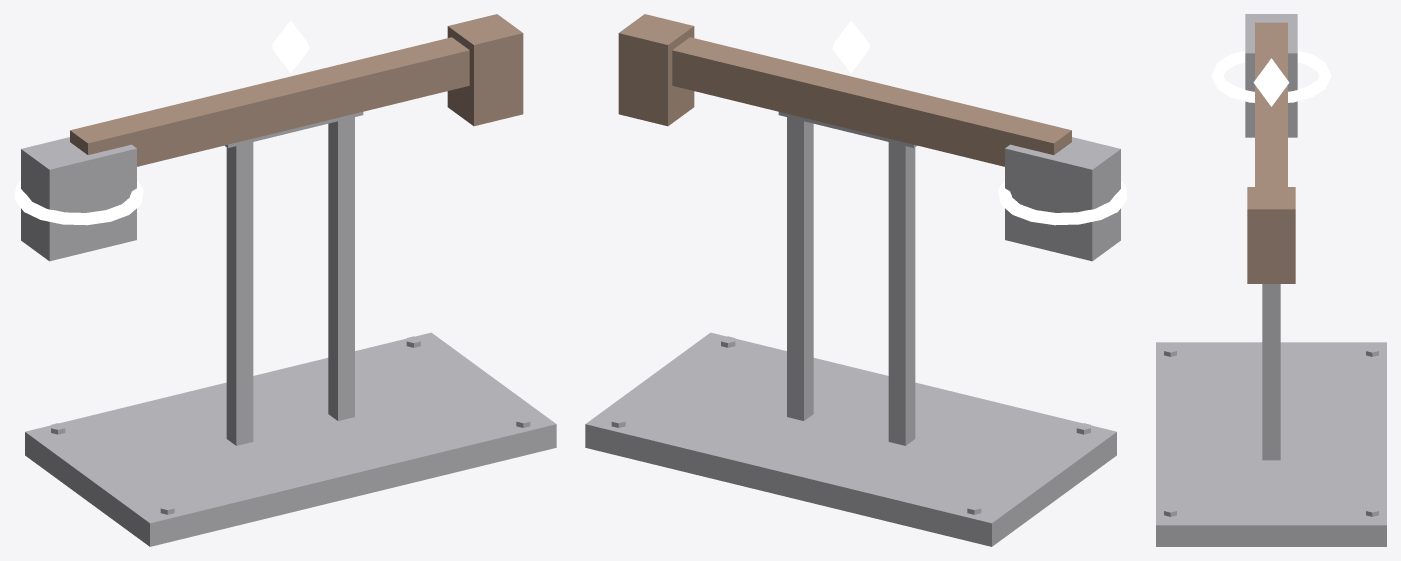
The model's file is pump_jack_legendary.glb.
3 renders of one model, left to right at view 1: azimuth 30°, elevation 25°; view 2: azimuth 150°, elevation 25°; view 3: azimuth 270°, elevation 25°, orthographic. The views are drawn at different scales.
Parts seen in each view (by area): view 1: pump_jack, beam; view 2: pump_jack, beam; view 3: pump_jack, beam.
Part boxes in pixels (x1,y1,x2,y2): pump_jack: [14, 14, 556, 546]; beam: [70, 37, 469, 166]; pump_jack: [585, 14, 1127, 546]; beam: [672, 37, 1071, 166]; pump_jack: [1156, 14, 1386, 546]; beam: [1255, 22, 1287, 186].
Size of the model in its own units: 3.45 by 2.92 by 1.54.
